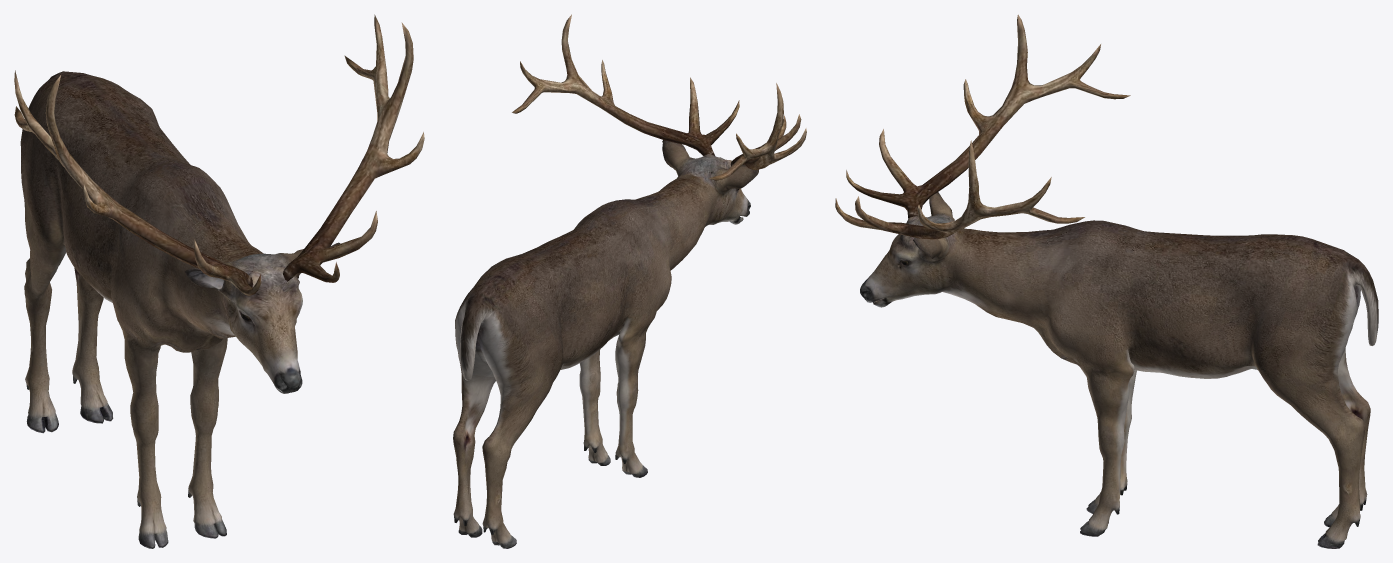
The model's file is a_deer.glb.
The picture shows the model from 3 angles, left to right: view 1: azimuth 30°, elevation 25°; view 2: azimuth 150°, elevation 25°; view 3: azimuth 270°, elevation 25°; orthographic projection. The views are drawn at different scales.
Visible parts, largest first — view 1: Goose.003_applied_clean_M_Goose2_0_M_Deer.001_0, Goose.003_applied_clean_M_Goose2_0_M_DeerAntler.001_0; view 2: Goose.003_applied_clean_M_Goose2_0_M_Deer.001_0, Goose.003_applied_clean_M_Goose2_0_M_DeerAntler.001_0; view 3: Goose.003_applied_clean_M_Goose2_0_M_Deer.001_0, Goose.003_applied_clean_M_Goose2_0_M_DeerAntler.001_0.
Part boxes in pixels (x1,y1,x2,y2): Goose.003_applied_clean_M_Goose2_0_M_Deer.001_0: (20,71,340,548); Goose.003_applied_clean_M_Goose2_0_M_DeerAntler.001_0: (14,14,424,295); Goose.003_applied_clean_M_Goose2_0_M_Deer.001_0: (453,140,758,548); Goose.003_applied_clean_M_Goose2_0_M_DeerAntler.001_0: (512,14,806,180); Goose.003_applied_clean_M_Goose2_0_M_Deer.001_0: (860,192,1378,548); Goose.003_applied_clean_M_Goose2_0_M_DeerAntler.001_0: (835,14,1130,239).
Size of the model in its own units: 1.14 by 1.7 by 1.9.
Materials: 2 (2 with a texture image).
